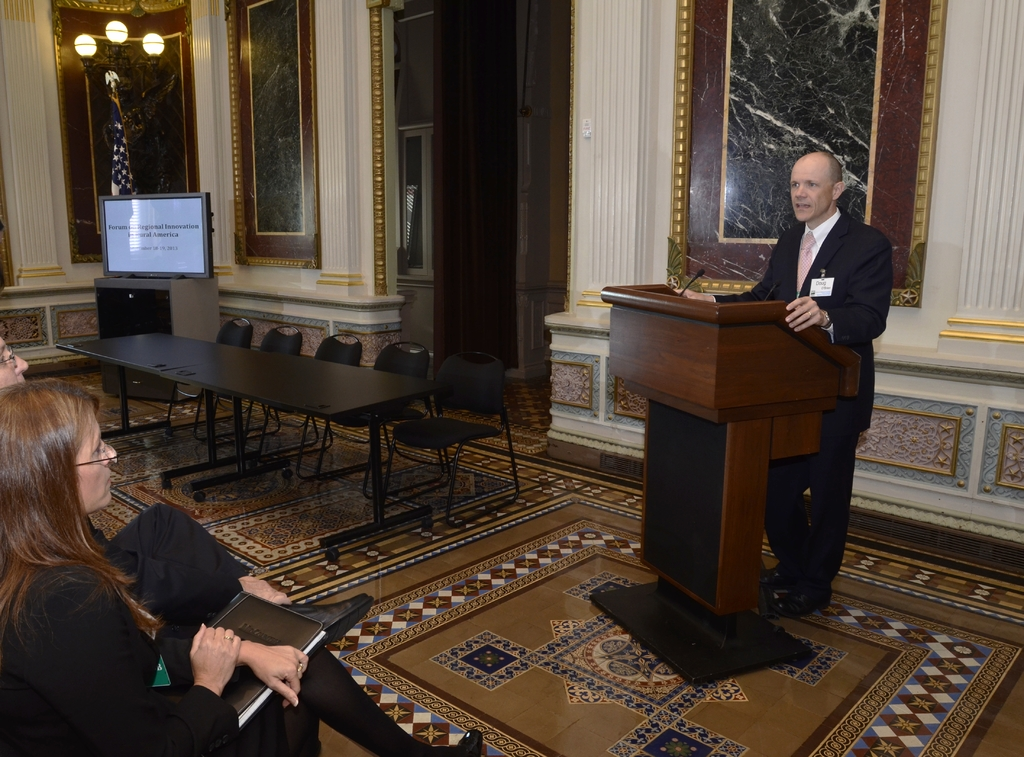Person: (672, 151, 893, 617), (0, 335, 29, 388)
